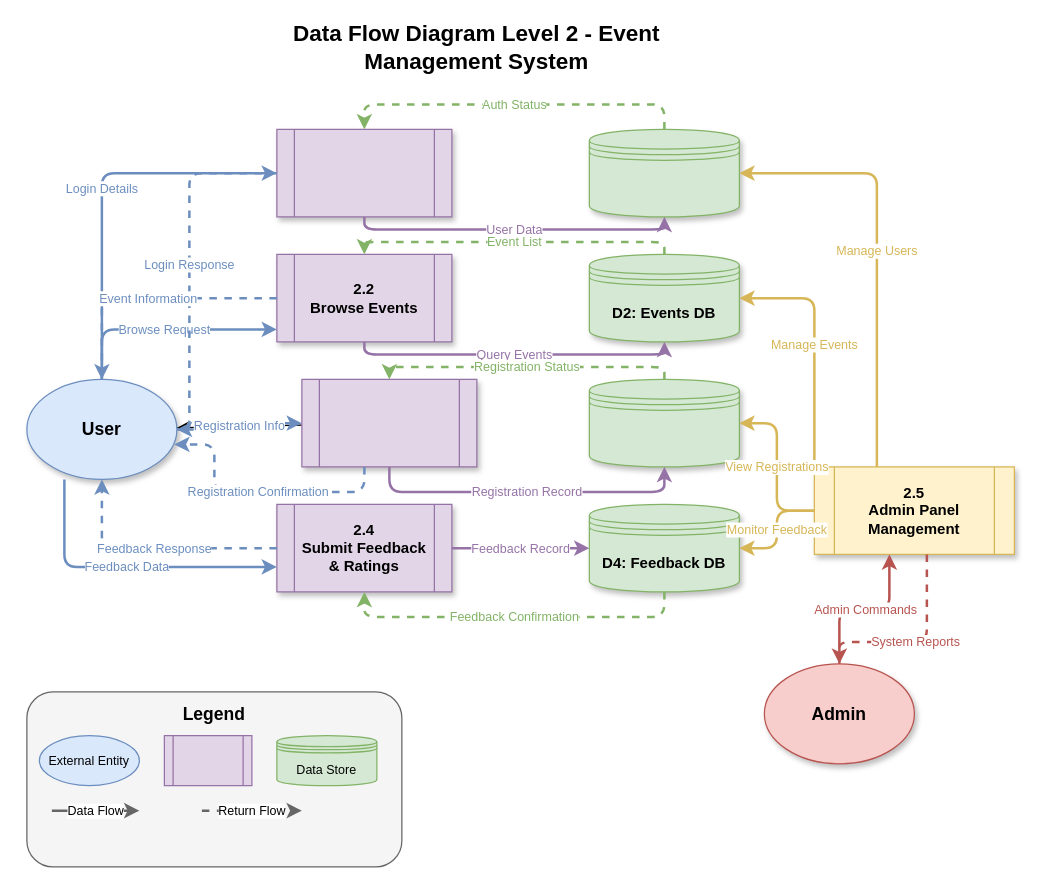
This 1044x889 diagram has some shape labels left out. The shapes that lost their labels are listed below. From the top down, each one's centre as x and y in pixels, then its label:
At pixel 365 174: "2.1 Sign Up / Login".
At pixel 665 174: "D1: User DB".
At pixel 390 424: "2.3 Register for Event".
At pixel 665 424: "D3: Registration DB".
At pixel 207 760: "Process".
